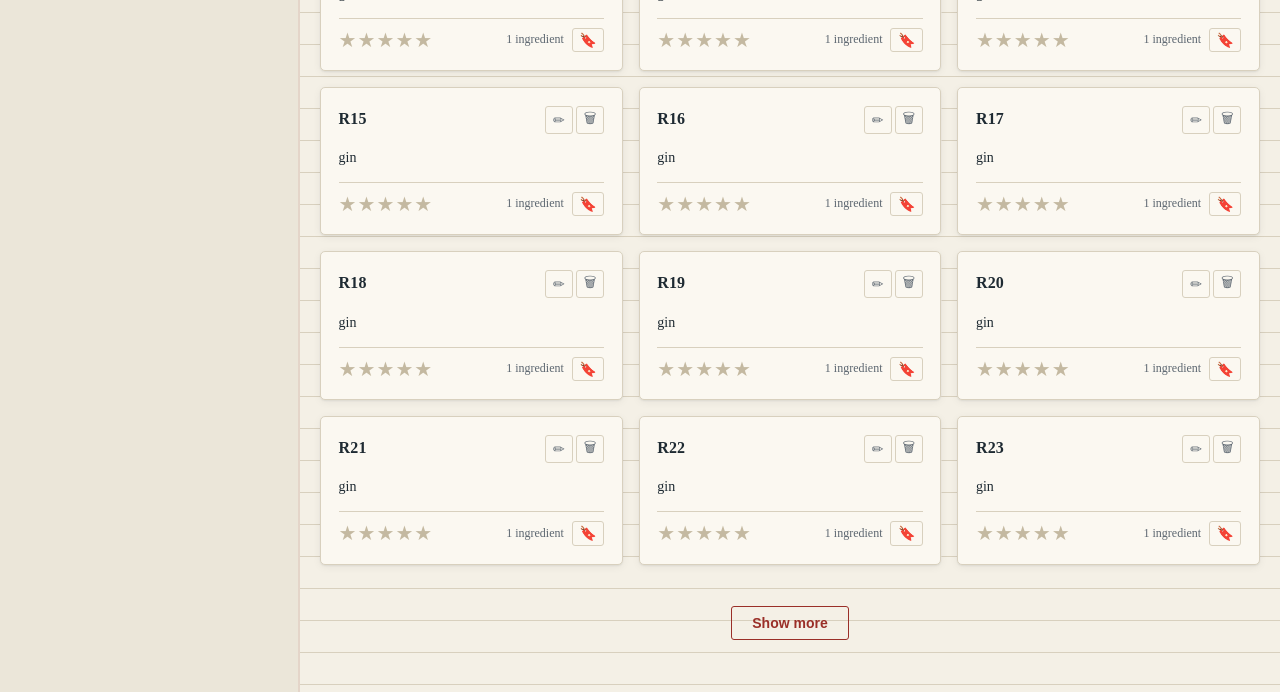
Test: RecipesPage — infinite list › RecipesPage_showMoreButton_loadsNextPage
(page scrolled)
What coordinates should you click on to do the following:
click the button "Show more"
I would click on:
 (790, 623)
Its box is [731,606,849,640].
(page scrolled)
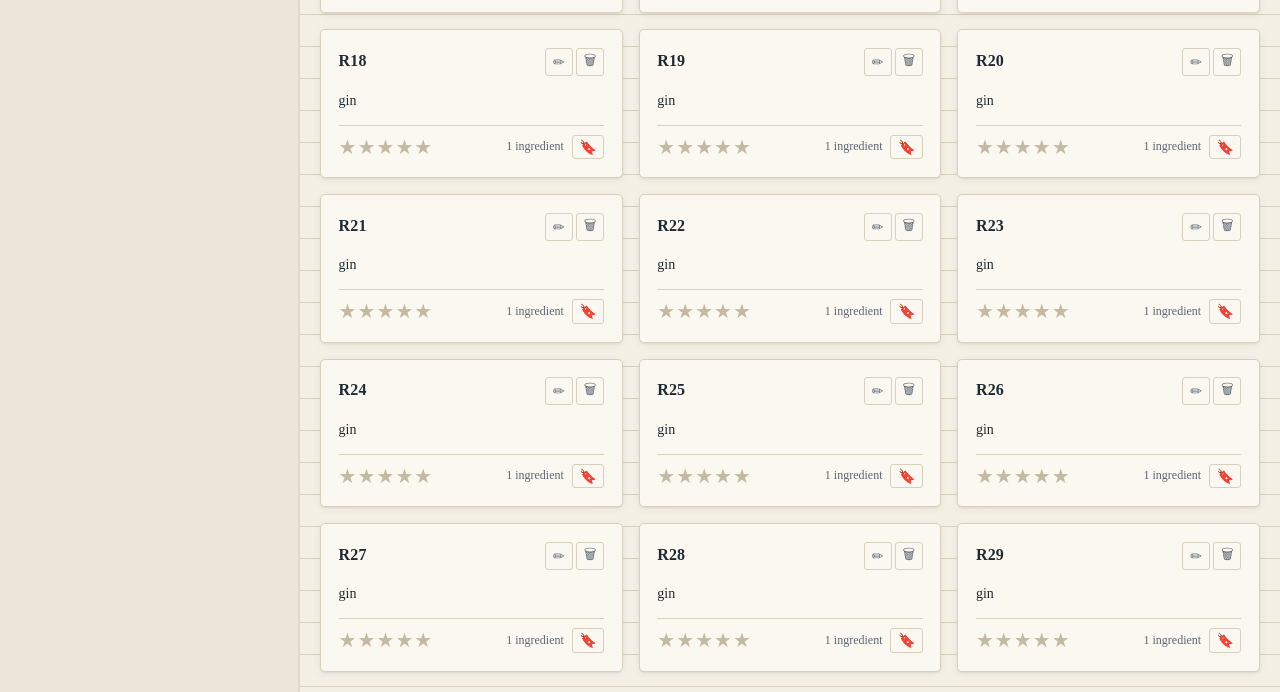
Now the heading "R29" is shown, box [976,546,1004,563]
